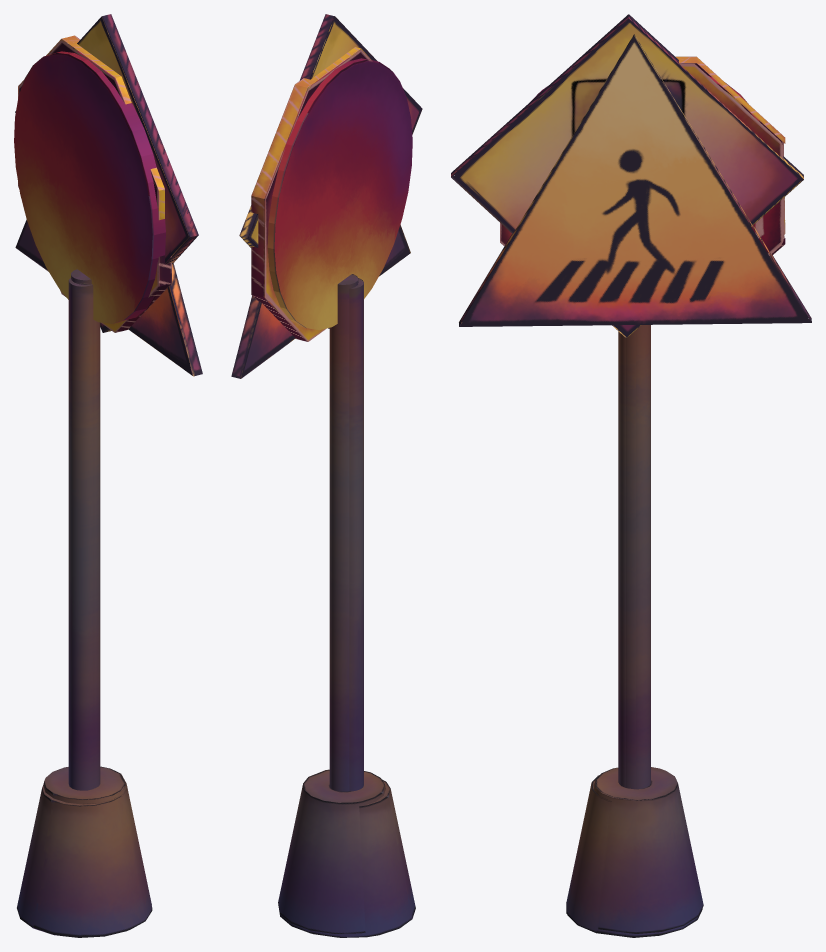
File: SM_PRP_AllSigns.fbx
3 renders of one model, left to right at view 1: azimuth 30°, elevation 25°; view 2: azimuth 150°, elevation 25°; view 3: azimuth 270°, elevation 25°, orthographic.
Visible parts, largest first — view 1: m_PostNoParking_low, m_Stop_low, m_TrafficLight_low, m_PedestrianCrossing_low; view 2: m_PostNoParking_low, m_TrafficLight_low, m_Stop_low, m_PedestrianCrossing_low; view 3: m_PedestrianCrossing_low, m_TrafficLight_low, m_Stop_low, m_PostNoParking_low.
Boxes of the visible parts, x1=… form: m_PostNoParking_low: x1=14, y1=51, x2=165, y2=937; m_Stop_low: x1=18, y1=35, x2=171, y2=929; m_TrafficLight_low: x1=15, y1=14, x2=198, y2=904; m_PedestrianCrossing_low: x1=15, y1=28, x2=202, y2=909; m_PostNoParking_low: x1=264, y1=58, x2=415, y2=937; m_TrafficLight_low: x1=239, y1=14, x2=422, y2=933; m_Stop_low: x1=251, y1=47, x2=372, y2=937; m_PedestrianCrossing_low: x1=231, y1=32, x2=410, y2=936; m_PedestrianCrossing_low: x1=459, y1=34, x2=811, y2=937; m_TrafficLight_low: x1=451, y1=14, x2=803, y2=933; m_Stop_low: x1=500, y1=56, x2=785, y2=937; m_PostNoParking_low: x1=530, y1=75, x2=759, y2=913.
Bounding box in the file's own units: 50.63 × 364 × 132.
1 material, 1 textured.
